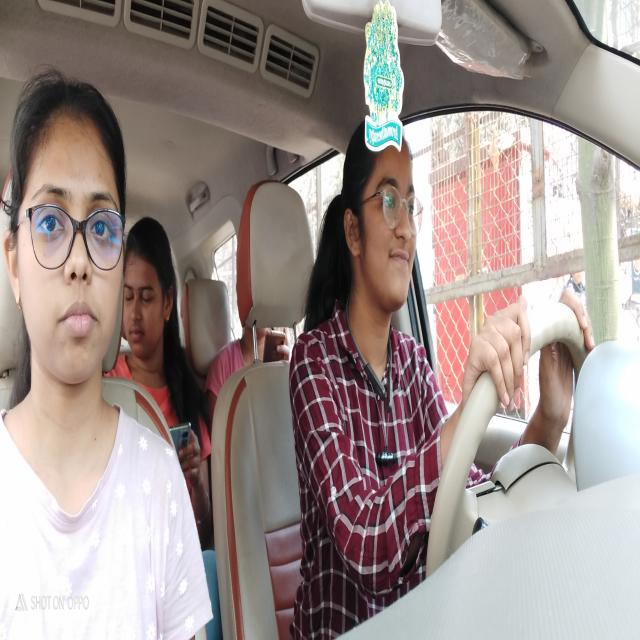person: (20, 119, 125, 381), (358, 131, 420, 313), (127, 228, 177, 354), (236, 336, 271, 358)
